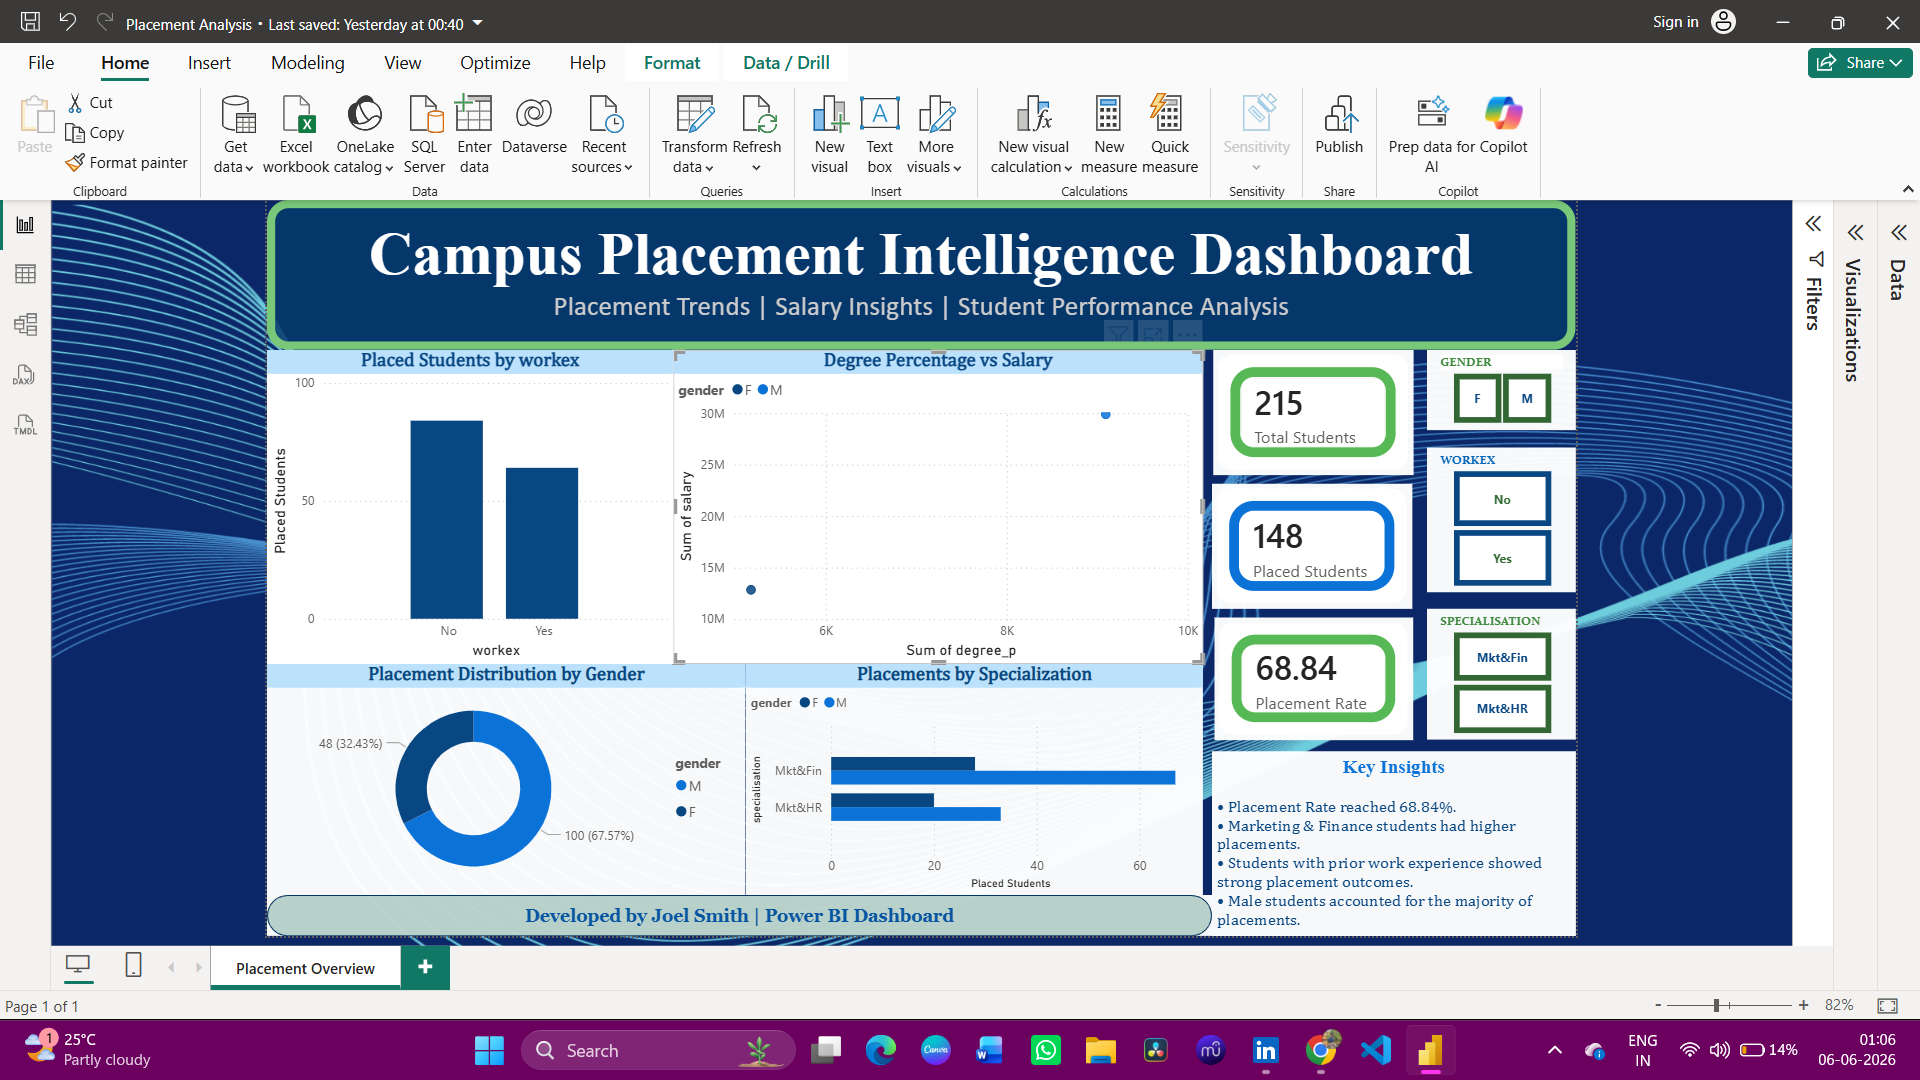

This screenshot's page, from the dashboard's own definition file:
{"tool":"powerbi","page":{"name":"Placement Overview","canvas":[1280,720],"ordinal":0},"visuals":[{"type":"clusteredBarChart","title":"Placements by Specialization","fields":{"Category":["Placement_Data_Full_Class.specialisation"],"Y":["Placement_Data_Full_Class.Placed Students"],"Series":["Placement_Data_Full_Class.gender"]},"box":[468.3,453.7,447.6,226.2],"z":0},{"type":"donutChart","title":"Placement Distribution by Gender","fields":{"Category":["Placement_Data_Full_Class.gender"],"Y":["Placement_Data_Full_Class.Placed Students"]},"box":[0,453.7,468.3,226.2],"z":1000},{"type":"scatterChart","title":"Degree Percentage vs Salary","fields":{"X":["Sum(Placement_Data_Full_Class.degree_p)"],"Y":["Sum(Placement_Data_Full_Class.salary)"],"Series":["Placement_Data_Full_Class.gender"]},"box":[397.4,146.7,518.5,306.9],"z":2000},{"type":"clusteredColumnChart","fields":{"Category":["Placement_Data_Full_Class.workex"],"Y":["Placement_Data_Full_Class.Placed Students"]},"box":[0,146.7,397.4,306.9],"z":3000},{"type":"slicer","fields":{"Values":["Placement_Data_Full_Class.gender"]},"box":[1134.8,146.7,145.5,78.3],"z":4000},{"type":"slicer","fields":{"Values":["Placement_Data_Full_Class.specialisation"]},"box":[1134.8,399.9,145.5,128.4],"z":5000},{"type":"slicer","fields":{"Values":["Placement_Data_Full_Class.workex"]},"box":[1134.8,242.1,145.5,141.8],"z":6000},{"type":"cardVisual","fields":{"Data":["Placement_Data_Full_Class.Total Students"]},"box":[925.7,146.7,195.7,122.3],"z":7000},{"type":"cardVisual","fields":{"Data":["Placement_Data_Full_Class.Placed Students"]},"box":[924.5,277.6,195.7,122.3],"z":8000},{"type":"cardVisual","fields":{"Data":["Placement_Data_Full_Class.Placement Rate"]},"box":[926.9,408.4,194.4,119.8],"z":9000},{"type":"textbox","box":[0,0,1280,146.2],"z":10000},{"type":"textbox","box":[924.5,539.3,355.8,181],"z":11000},{"type":"shape","box":[0,679.9,924.5,40.4],"z":12000}]}

Visuals, with their boxes on the page's 1280x720 design canvas (x1, y1, x2, y2). These are canvas units, not pixel positions in the 1920x1080 screenshot, which may show the page scaled, cropped or inside an application window:
"Placements by Specialization" clusteredBarChart: region(468, 454, 916, 680)
"Placement Distribution by Gender" donutChart: region(0, 454, 468, 680)
"Degree Percentage vs Salary" scatterChart: region(397, 147, 916, 454)
clusteredColumnChart - Placement_Data_Full_Class.workex x Placement_Data_Full_Class.Placed Students: region(0, 147, 397, 454)
slicer - Placement_Data_Full_Class.gender: region(1135, 147, 1280, 225)
slicer - Placement_Data_Full_Class.specialisation: region(1135, 400, 1280, 528)
slicer - Placement_Data_Full_Class.workex: region(1135, 242, 1280, 384)
cardVisual - Placement_Data_Full_Class.Total Students: region(926, 147, 1121, 269)
cardVisual - Placement_Data_Full_Class.Placed Students: region(924, 278, 1120, 400)
cardVisual - Placement_Data_Full_Class.Placement Rate: region(927, 408, 1121, 528)
textbox: region(0, 0, 1280, 146)
textbox: region(924, 539, 1280, 720)
shape: region(0, 680, 924, 720)
